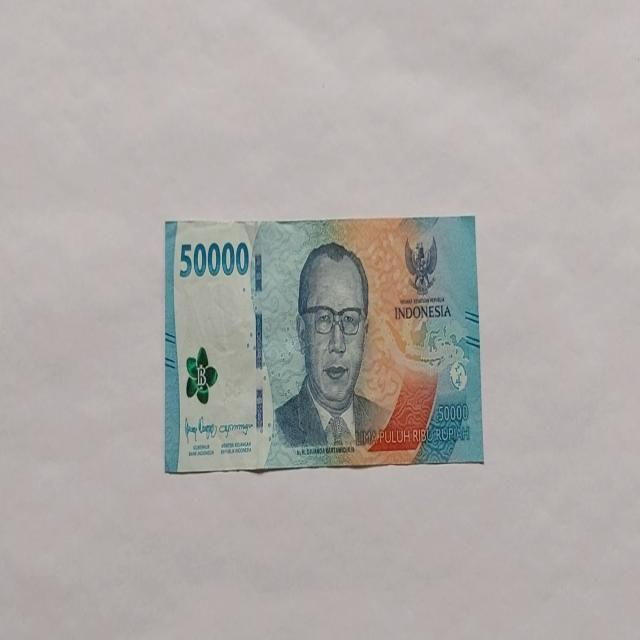lima puluh ribu rupiah: (164, 215, 484, 474), (272, 240, 392, 453)
